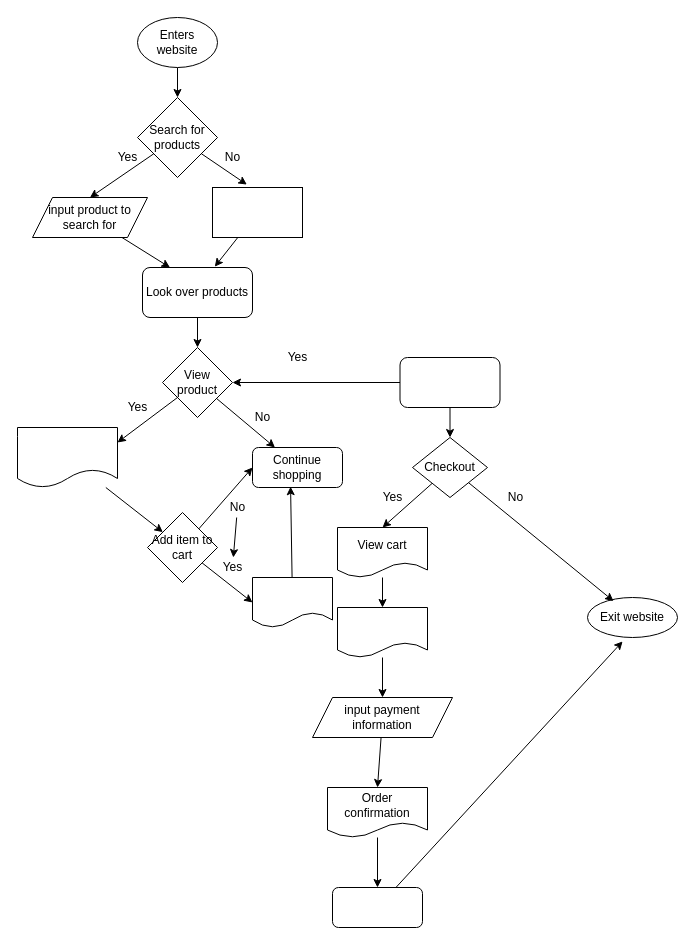
Some shapes in this 695 by 945 pixel diagram are drawn without their labels. The centre of each missing label's shape, as x and y in pixels:
Added to cart confirmation: point (292, 602)
Explore homepge products: point (257, 212)
Open product webpage: point (67, 457)
Recieve an email: point (377, 907)
Search for new product: point (449, 382)
View payment: point (382, 632)
